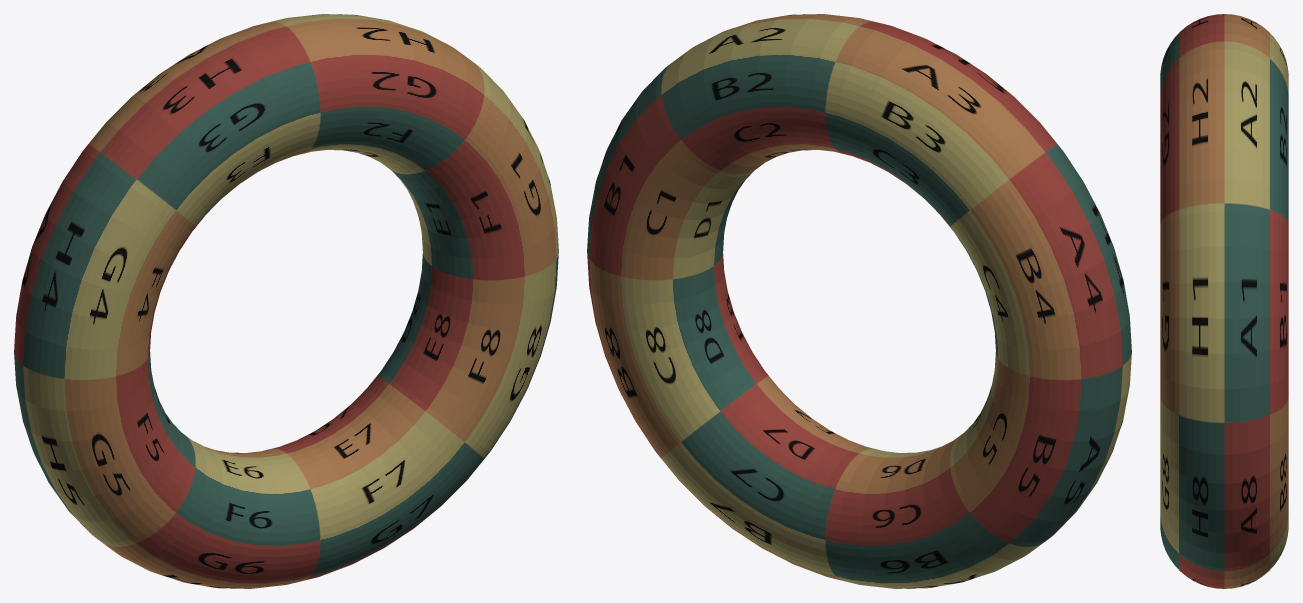
Rendered from texture_torus_R19_r17.glb.
3 views of the same model, side by side, from view 1: azimuth 30°, elevation 25°; view 2: azimuth 150°, elevation 25°; view 3: azimuth 270°, elevation 25° (orthographic). The views are drawn at different scales.
Parts seen in each view (by area): view 1: world; view 2: world; view 3: world.
Boxes of the visible parts, bbox=[...] form: world: bbox=[14, 14, 558, 588]; world: bbox=[587, 14, 1131, 588]; world: bbox=[1160, 14, 1288, 588].
Size of the model in its own units: 29.2 by 29.14 by 6.52.
Materials: 1 (1 with a texture image).
